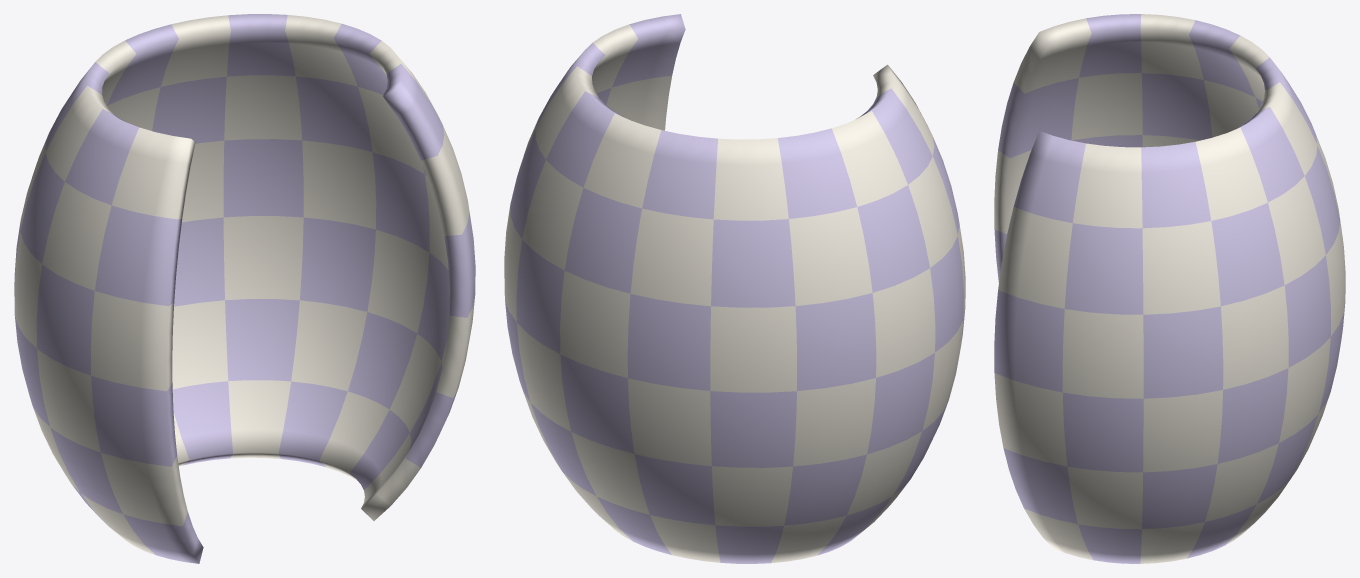
The model's file is Robe_Body.fbx.
3 renders of one model, left to right at view 1: azimuth 30°, elevation 25°; view 2: azimuth 150°, elevation 25°; view 3: azimuth 270°, elevation 25°, orthographic. The views are drawn at different scales.
Parts seen in each view (by area): view 1: Robe_Body; view 2: Robe_Body; view 3: Robe_Body.
Boxes of the visible parts, x1,y1,x2,y2 form: Robe_Body: (14,14,475,563); Robe_Body: (504,14,965,563); Robe_Body: (994,14,1345,563).
Size of the model in its own units: 0.7728 by 0.7881 by 0.5879.
